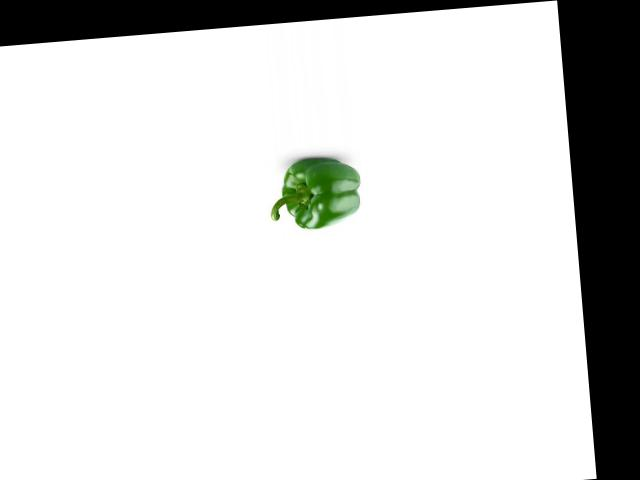bell_pepper: (264, 155, 366, 233)
